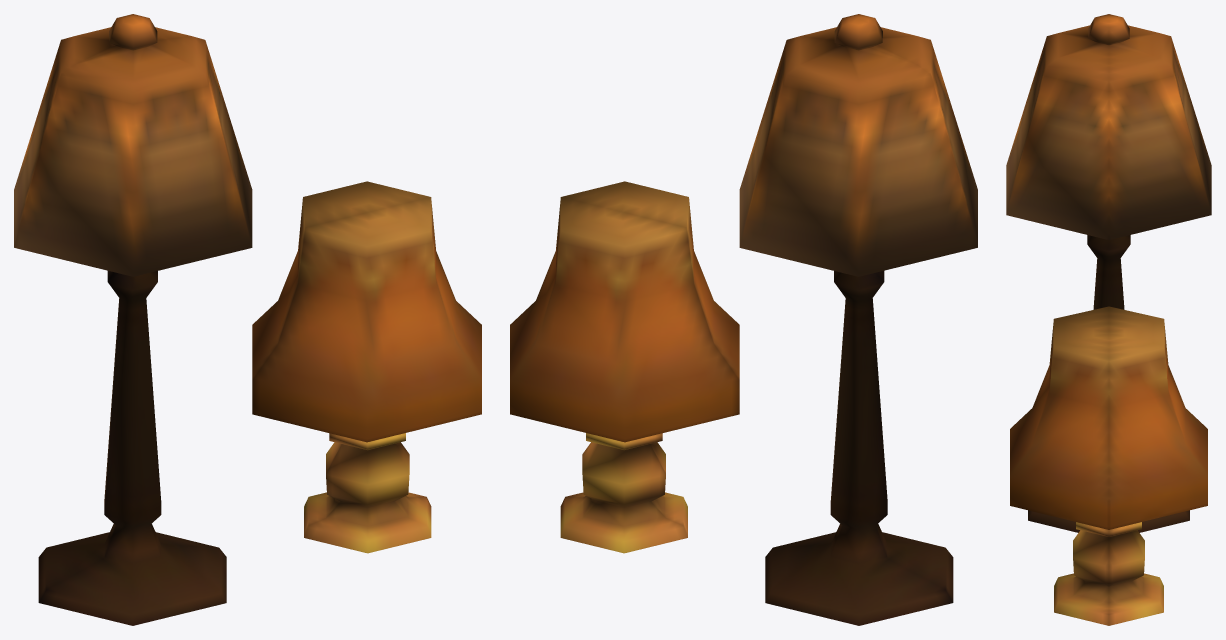
The model's file is Lamp_01a.gltf.
The picture shows the model from 3 angles, left to right: view 1: azimuth 30°, elevation 25°; view 2: azimuth 150°, elevation 25°; view 3: azimuth 270°, elevation 25°; orthographic projection. The views are drawn at different scales.
Visible parts, largest first — view 1: Lamp_01a; view 2: Lamp_01a; view 3: Lamp_01a.
Boxes of the visible parts, x1,y1,x2,y2 form: Lamp_01a: [14, 14, 481, 625]; Lamp_01a: [510, 14, 977, 625]; Lamp_01a: [1006, 14, 1211, 625].
Bounding box in the file's own units: 47.94 × 54.98 × 21.16.
Materials: 1 (1 with a texture image).
